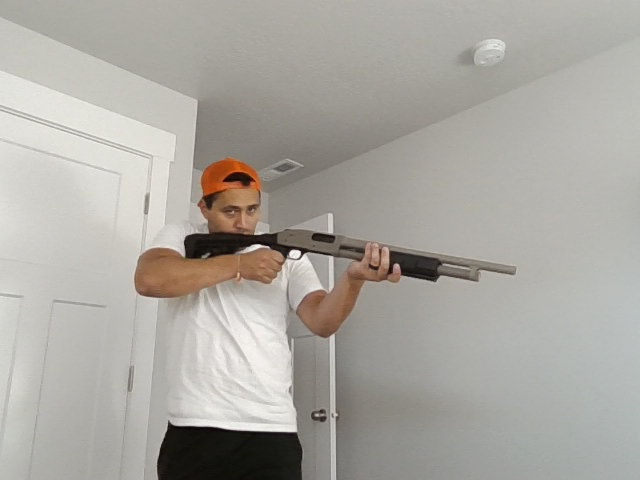shotgun: (183, 227, 518, 284)
